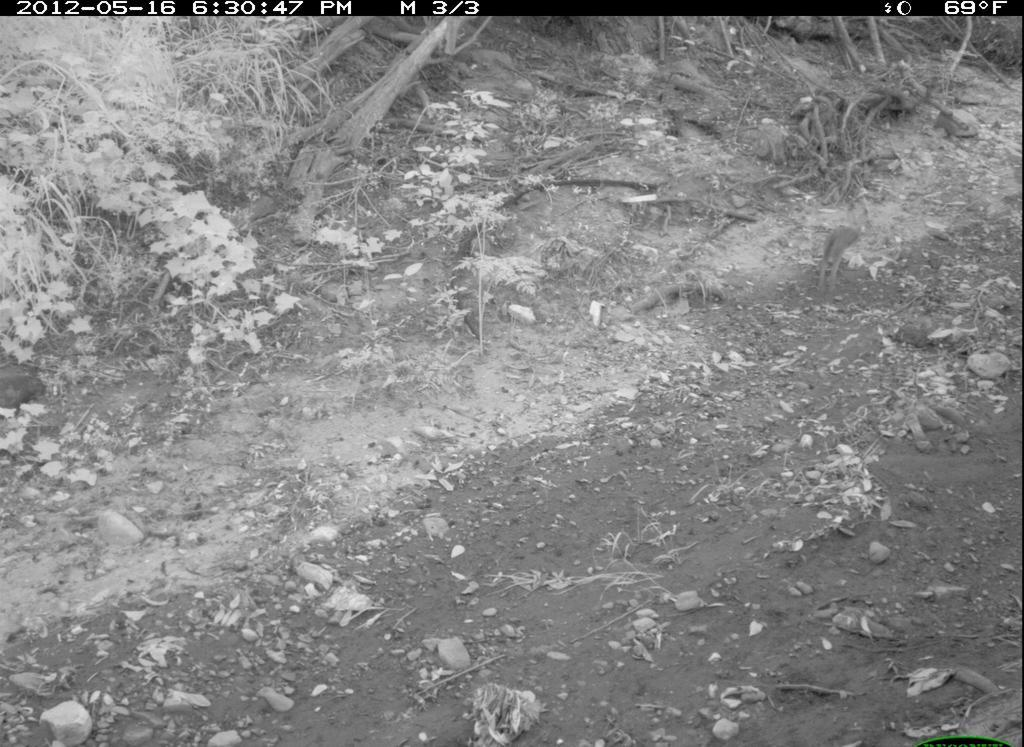rabbit: (785, 205, 882, 306)
